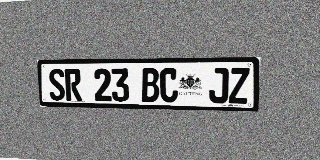2: (94, 68, 112, 101)
3: (111, 68, 129, 102)
B: (141, 68, 159, 102)
C: (160, 68, 178, 103)
J: (209, 68, 229, 103)
R: (64, 69, 82, 101)
S: (48, 69, 66, 101)
Z: (229, 68, 250, 104)
